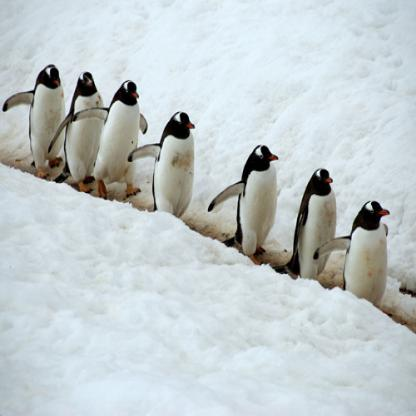Penguin: (48, 70, 154, 212), (311, 183, 401, 333), (207, 133, 289, 275), (125, 100, 210, 230), (3, 55, 78, 195), (273, 148, 344, 292), (57, 65, 119, 201)
